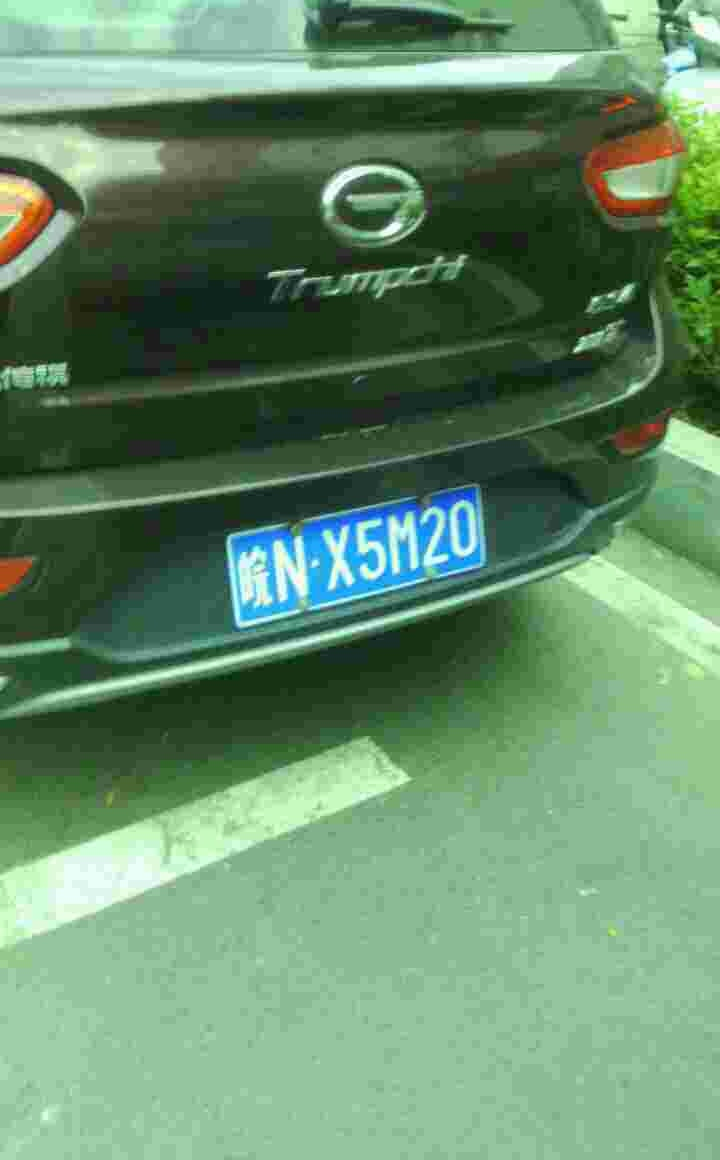license_plate: (232, 490, 490, 631)
